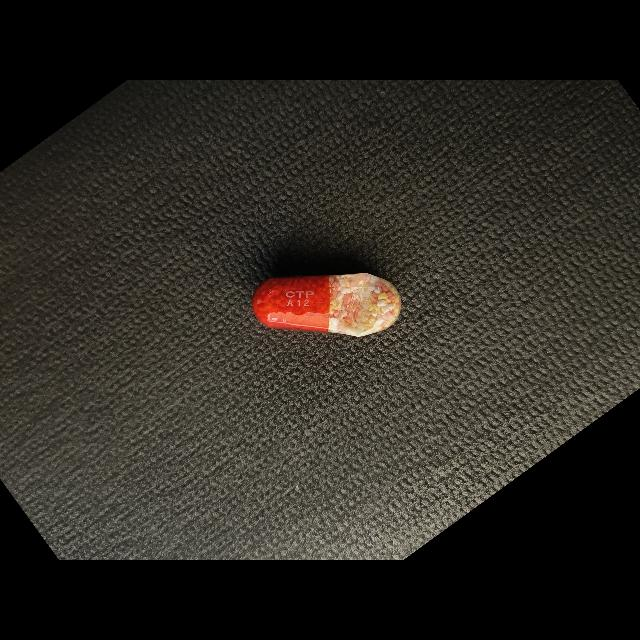Defective Capsule: (252, 273, 402, 337)
